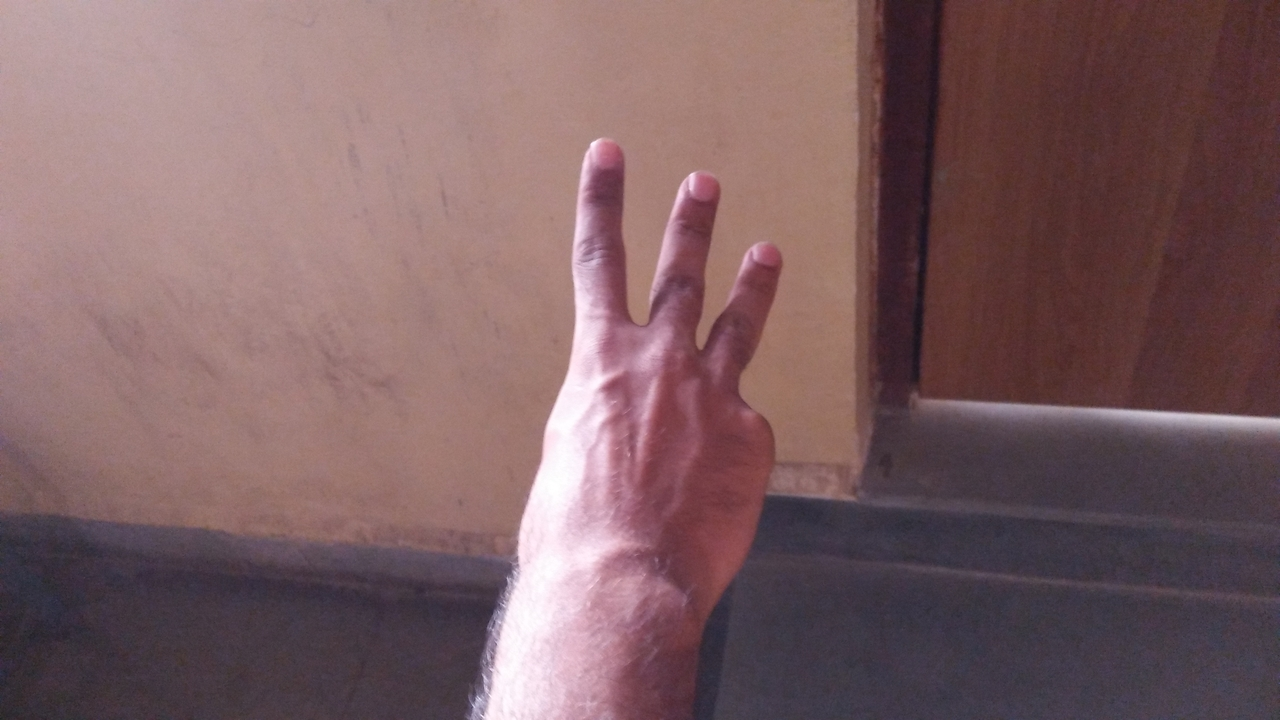fingertip: (732, 230, 790, 288), (668, 162, 724, 214), (572, 132, 628, 182)
